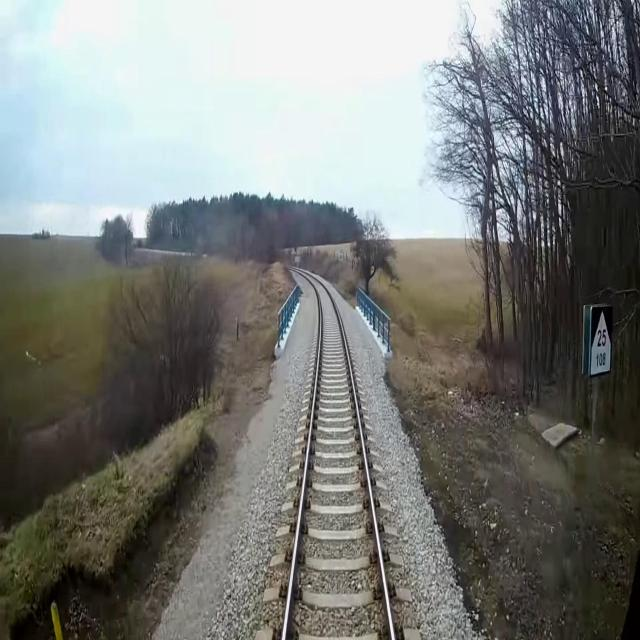rail-track: (286, 273, 390, 639)
